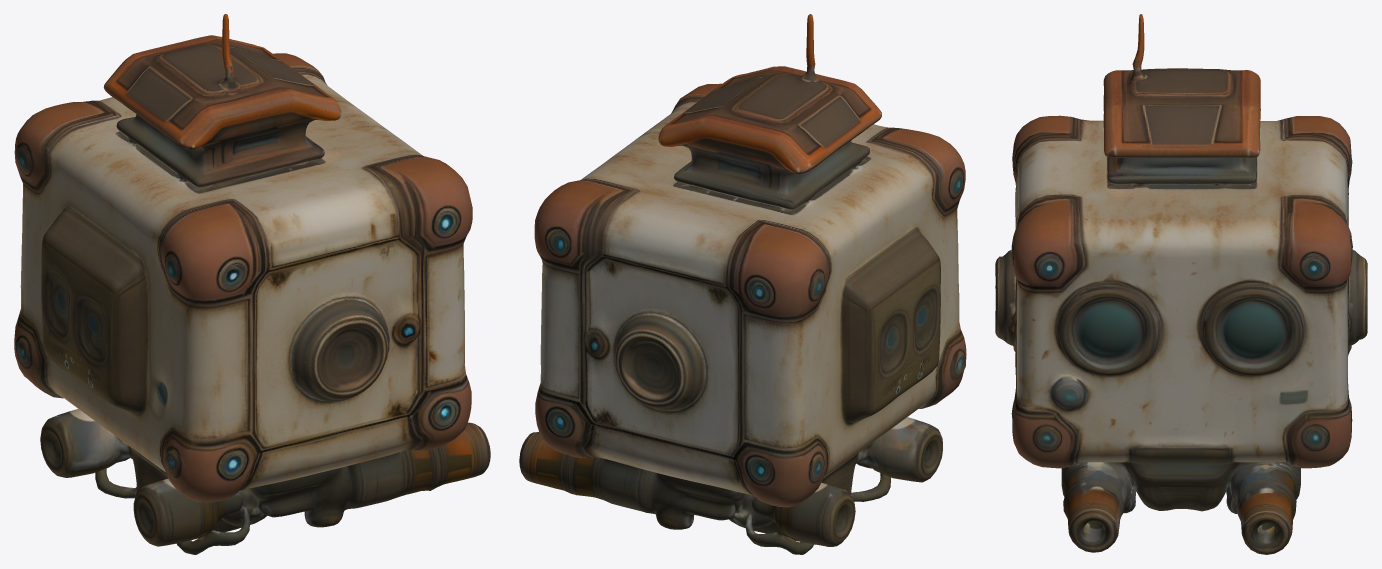
File: CmpBot_Lvl_3.fbx
3 views of the same model, side by side, from view 1: azimuth 30°, elevation 25°; view 2: azimuth 150°, elevation 25°; view 3: azimuth 270°, elevation 25° (orthographic). The views are drawn at different scales.
Visible parts, largest first — view 1: tripo_node_a4d6ad2a; view 2: tripo_node_a4d6ad2a; view 3: tripo_node_a4d6ad2a.
Part boxes in pixels (x1,y1,x2,y2): tripo_node_a4d6ad2a: [14, 14, 490, 554]; tripo_node_a4d6ad2a: [519, 14, 966, 554]; tripo_node_a4d6ad2a: [995, 14, 1367, 554].
Size of the model in its own units: 70.55 by 99.74 by 70.72.
1 material, 1 textured.
